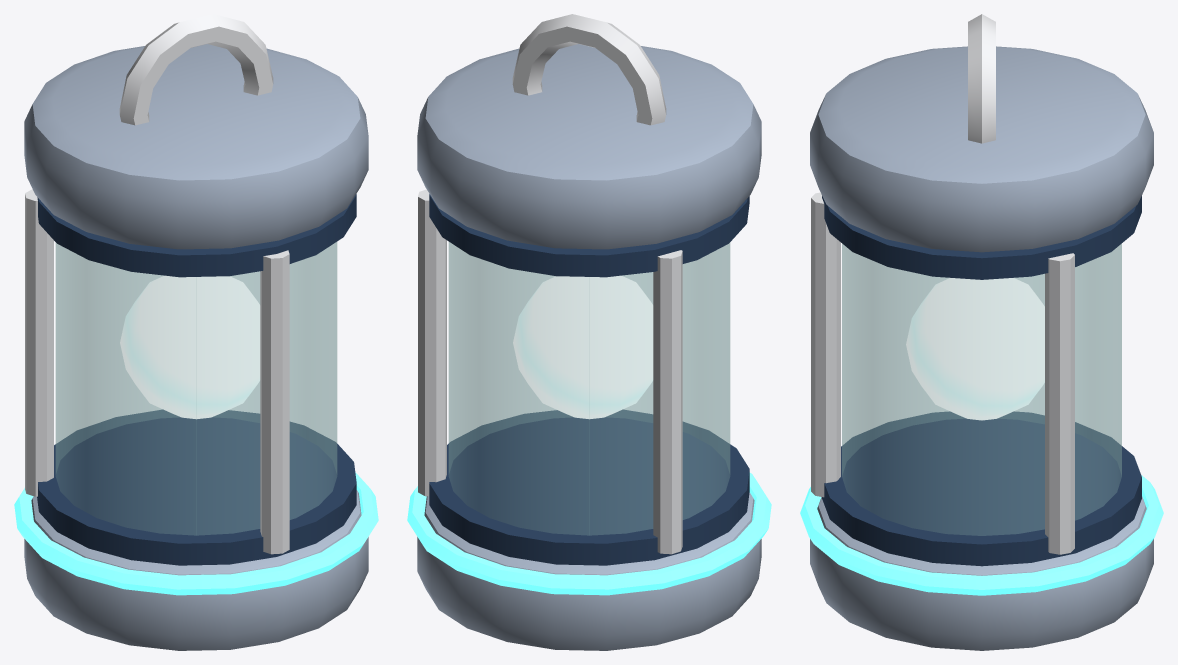
Rendered from SpecimenCapsule.fbx.
The picture shows the model from 3 angles, left to right: view 1: azimuth 30°, elevation 25°; view 2: azimuth 150°, elevation 25°; view 3: azimuth 270°, elevation 25°; orthographic projection.
Parts seen in each view (by area): view 1: Tube__Glass__Glass, TopCap__SmoothPlastic__Steel, BaseBand__SmoothPlastic__Floor, BaseCap__SmoothPlastic__Steel, Specimen__Neon__Mint, EnergyRing__Neon__Cyan, Strut3__SmoothPlastic__FacilityCream, TopBand__SmoothPlastic__Floor, Strut2__SmoothPlastic__FacilityCream, Handle__SmoothPlastic__FacilityCream; view 2: Tube__Glass__Glass, TopCap__SmoothPlastic__Steel, BaseBand__SmoothPlastic__Floor, BaseCap__SmoothPlastic__Steel, Specimen__Neon__Mint, EnergyRing__Neon__Cyan, Strut2__SmoothPlastic__FacilityCream, TopBand__SmoothPlastic__Floor, Strut1__SmoothPlastic__FacilityCream, Handle__SmoothPlastic__FacilityCream; view 3: Tube__Glass__Glass, TopCap__SmoothPlastic__Steel, BaseBand__SmoothPlastic__Floor, BaseCap__SmoothPlastic__Steel, Specimen__Neon__Mint, EnergyRing__Neon__Cyan, Strut1__SmoothPlastic__FacilityCream, TopBand__SmoothPlastic__Floor, Strut3__SmoothPlastic__FacilityCream, Handle__SmoothPlastic__FacilityCream.
Part boxes in pixels (<box>): Tube__Glass__Glass: <box>55,242,337,535</box>; TopCap__SmoothPlastic__Steel: <box>24,44,368,249</box>; BaseBand__SmoothPlastic__Floor: <box>37,409,356,565</box>; BaseCap__SmoothPlastic__Steel: <box>24,490,368,650</box>; Specimen__Neon__Mint: <box>120,275,260,419</box>; EnergyRing__Neon__Cyan: <box>14,472,378,595</box>; Strut3__SmoothPlastic__FacilityCream: <box>260,250,289,554</box>; TopBand__SmoothPlastic__Floor: <box>37,194,356,277</box>; Strut2__SmoothPlastic__FacilityCream: <box>25,189,53,496</box>; Handle__SmoothPlastic__FacilityCream: <box>119,14,273,125</box>; Tube__Glass__Glass: <box>448,242,730,535</box>; TopCap__SmoothPlastic__Steel: <box>417,44,761,249</box>; BaseBand__SmoothPlastic__Floor: <box>429,409,749,565</box>; BaseCap__SmoothPlastic__Steel: <box>417,492,761,650</box>; Specimen__Neon__Mint: <box>513,275,653,419</box>; EnergyRing__Neon__Cyan: <box>407,472,771,595</box>; Strut2__SmoothPlastic__FacilityCream: <box>653,250,682,554</box>; TopBand__SmoothPlastic__Floor: <box>429,194,749,277</box>; Strut1__SmoothPlastic__FacilityCream: <box>418,189,446,496</box>; Handle__SmoothPlastic__FacilityCream: <box>512,14,666,125</box>; Tube__Glass__Glass: <box>842,243,1121,535</box>; TopCap__SmoothPlastic__Steel: <box>810,46,1153,252</box>; BaseBand__SmoothPlastic__Floor: <box>822,411,1141,566</box>; BaseCap__SmoothPlastic__Steel: <box>810,496,1153,650</box>; Specimen__Neon__Mint: <box>906,278,1044,420</box>; EnergyRing__Neon__Cyan: <box>800,475,1163,595</box>; Strut1__SmoothPlastic__FacilityCream: <box>1045,253,1074,554</box>; TopBand__SmoothPlastic__Floor: <box>822,196,1141,279</box>; Strut3__SmoothPlastic__FacilityCream: <box>811,192,840,497</box>; Handle__SmoothPlastic__FacilityCream: <box>968,14,995,143</box>.
Size of the model in its own units: 1.82 by 3.13 by 1.82.
